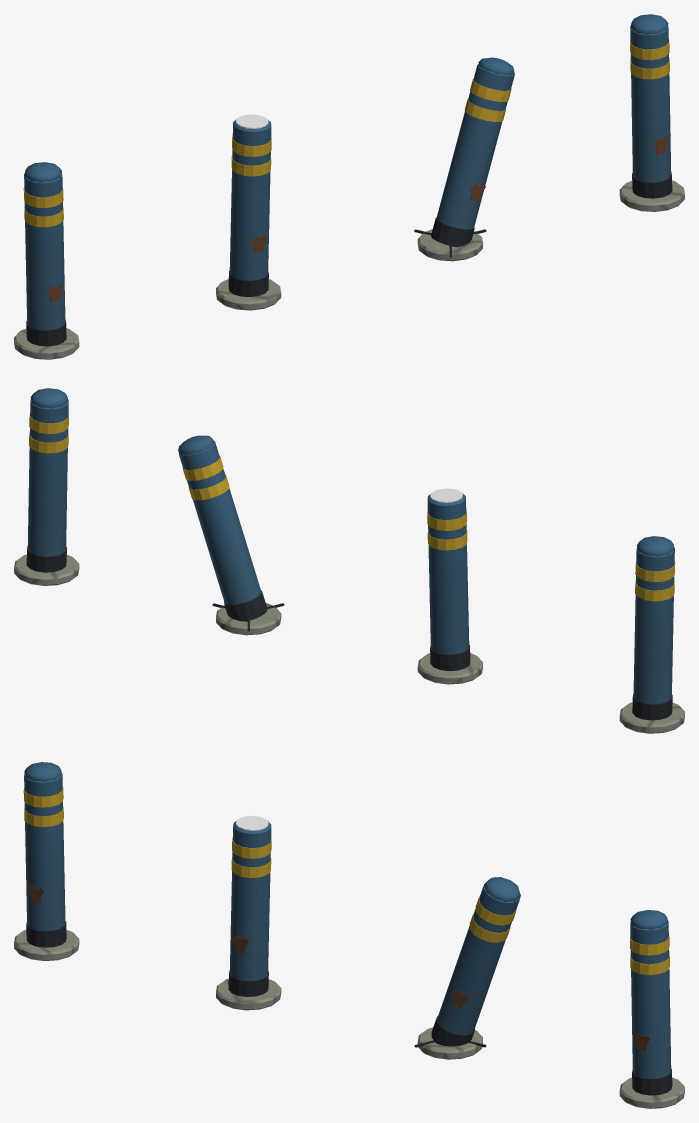
Rendered from bollard_row.glb.
The picture shows the model from 3 angles, top to bottom: view 1: azimuth 30°, elevation 25°; view 2: azimuth 150°, elevation 25°; view 3: azimuth 330°, elevation 25°; orthographic projection.
Visible parts, largest first — view 1: bollard_row; view 2: bollard_row; view 3: bollard_row.
Boxes of the visible parts, bbox=[...] form: bollard_row: bbox=[14, 14, 684, 359]; bollard_row: bbox=[14, 388, 684, 733]; bollard_row: bbox=[14, 762, 684, 1108].
Bounding box in the file's own units: 3.93 × 1.03 × 0.3703.
Materials: 7 (7 with a texture image).
